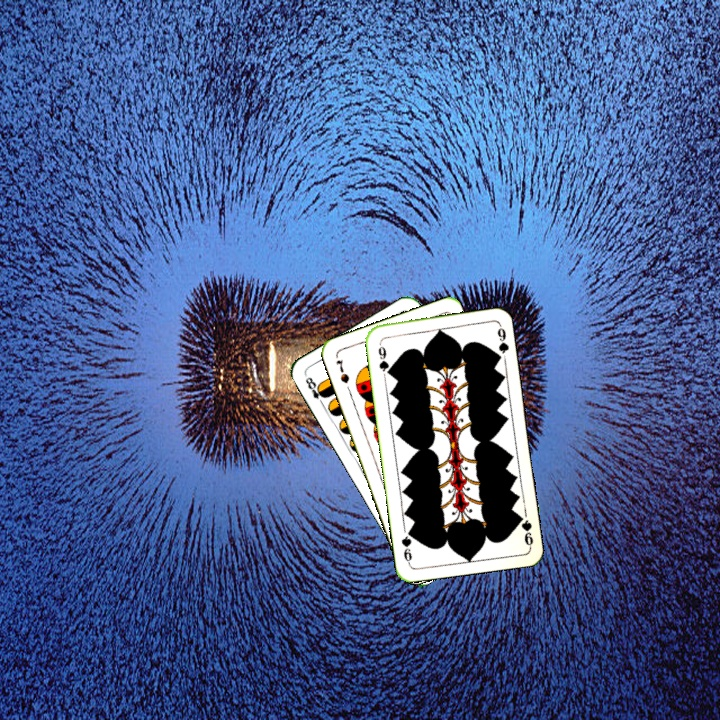E8: (301, 373, 329, 408)
G9: (513, 510, 536, 550), (374, 338, 393, 377)
S7: (332, 355, 352, 386)
